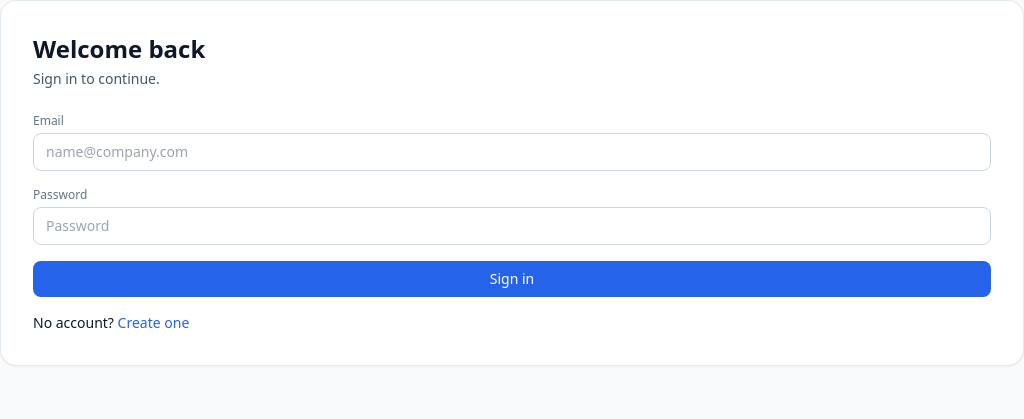
Test case: LoginPage › shows an error when credentials are rejected
The image size is (1024, 419).
Type "alex@example.com" into the field labelled "Email" at (512, 152), box x1=33 y1=133 x2=991 y2=171
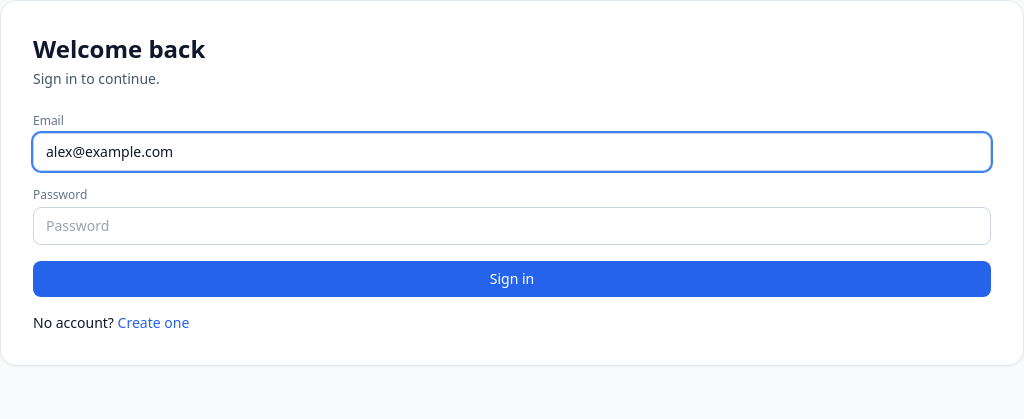
Type "wrong-password" into the password field labelled "Password" at (512, 226), box x1=33 y1=207 x2=991 y2=245
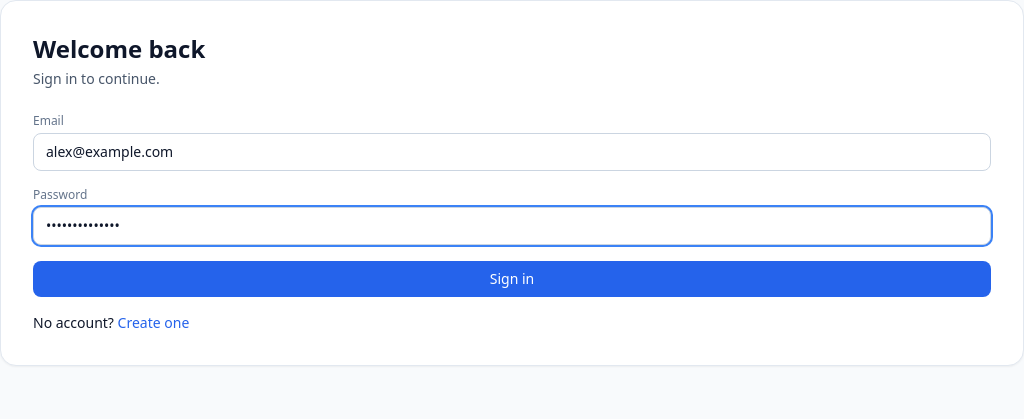
Click the button "Sign in" at (512, 279), box x1=33 y1=261 x2=991 y2=297
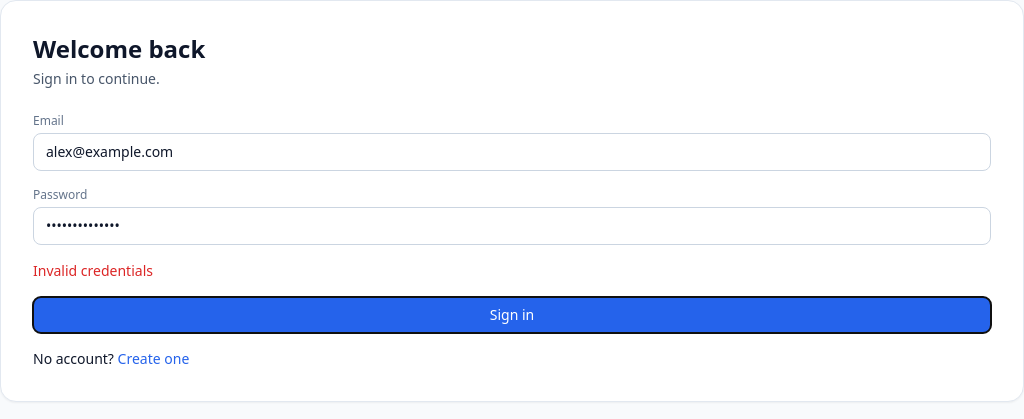
Expected: the message reads "Invalid credentials", x1=33 y1=261 x2=153 y2=280
